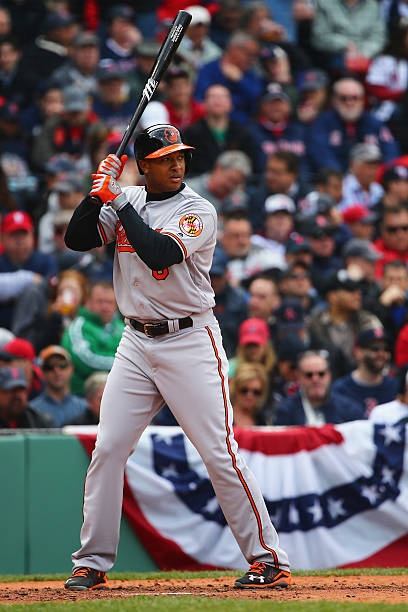bita: (102, 8, 189, 175)
